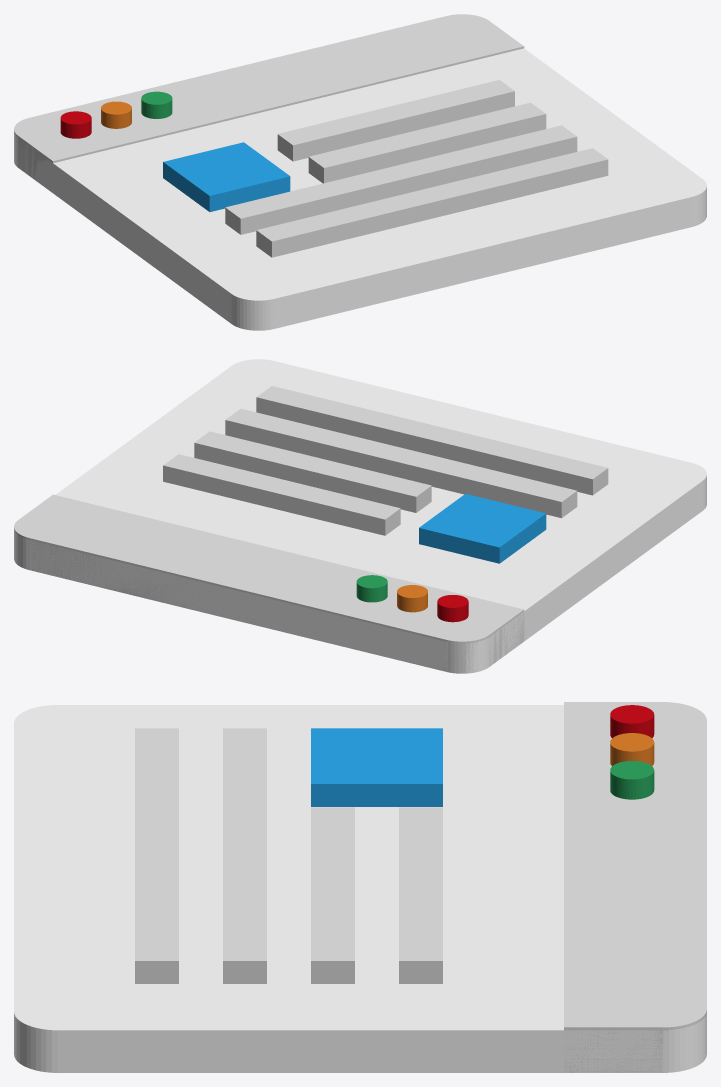
File: web.fbx
The picture shows the model from 3 angles, top to bottom: view 1: azimuth 30°, elevation 25°; view 2: azimuth 150°, elevation 25°; view 3: azimuth 270°, elevation 25°; orthographic projection. The views are drawn at different scales.
Parts seen in each view (by area): view 1: bg, header, XMLID_9_, XMLID_8_, XMLID_2_, XMLID_7_, img, red, green, orange; view 2: bg, header, XMLID_8_, XMLID_9_, XMLID_2_, XMLID_7_, img, green, red, orange; view 3: bg, header, XMLID_8_, XMLID_9_, img, XMLID_2_, XMLID_7_, green, red, orange.
Part boxes in pixels (x1=…): bg: x1=14, y1=48, x2=706, y2=330; header: x1=14, y1=14, x2=524, y2=179; XMLID_9_: x1=256, y1=148, x2=608, y2=257; XMLID_8_: x1=225, y1=125, x2=577, y2=234; XMLID_2_: x1=277, y1=80, x2=514, y2=161; XMLID_7_: x1=308, y1=102, x2=546, y2=183; img: x1=163, y1=142, x2=290, y2=211; red: x1=60, y1=111, x2=91, y2=138; green: x1=141, y1=91, x2=172, y2=118; orange: x1=101, y1=101, x2=131, y2=128; bg: x1=14, y1=359, x2=706, y2=673; header: x1=14, y1=494, x2=524, y2=673; XMLID_8_: x1=225, y1=408, x2=577, y2=518; XMLID_9_: x1=256, y1=386, x2=608, y2=495; XMLID_2_: x1=163, y1=454, x2=400, y2=535; XMLID_7_: x1=194, y1=431, x2=431, y2=512; img: x1=419, y1=493, x2=546, y2=563; green: x1=356, y1=575, x2=387, y2=602; red: x1=437, y1=595, x2=468, y2=622; orange: x1=397, y1=585, x2=427, y2=612; bg: x1=14, y1=705, x2=706, y2=1072; header: x1=564, y1=702, x2=706, y2=1072; XMLID_8_: x1=223, y1=728, x2=266, y2=983; XMLID_9_: x1=135, y1=728, x2=178, y2=983; img: x1=311, y1=728, x2=442, y2=806; XMLID_2_: x1=399, y1=807, x2=442, y2=983; XMLID_7_: x1=311, y1=807, x2=354, y2=983; green: x1=610, y1=761, x2=654, y2=799; red: x1=610, y1=705, x2=654, y2=738; orange: x1=610, y1=733, x2=654, y2=765.
Size of the model in its own units: 54.41 by 5.12 by 48.96.
